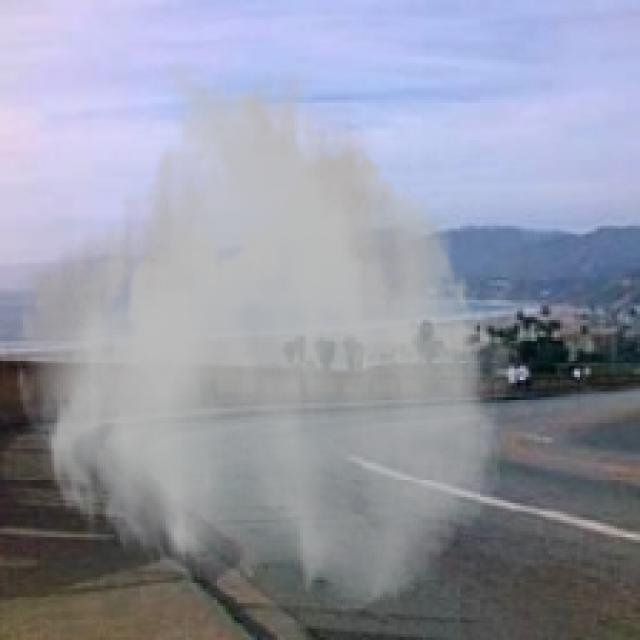smoke: (11, 51, 532, 614)
